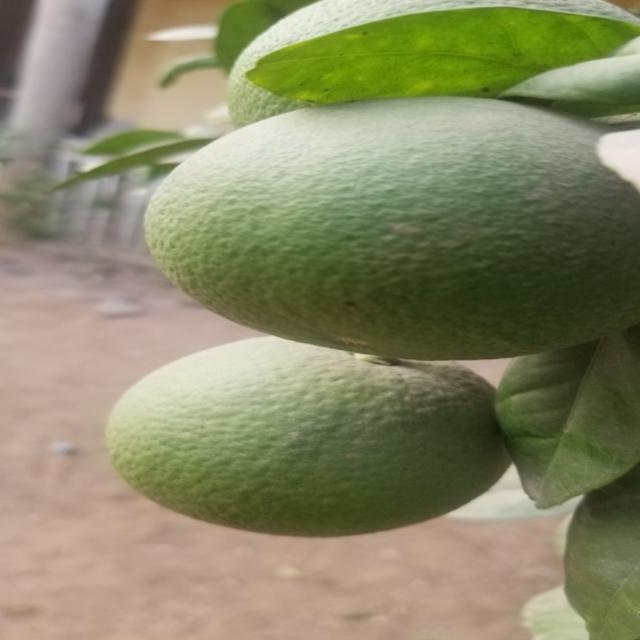agrume: (153, 100, 640, 352), (117, 340, 496, 536), (235, 0, 640, 111)
